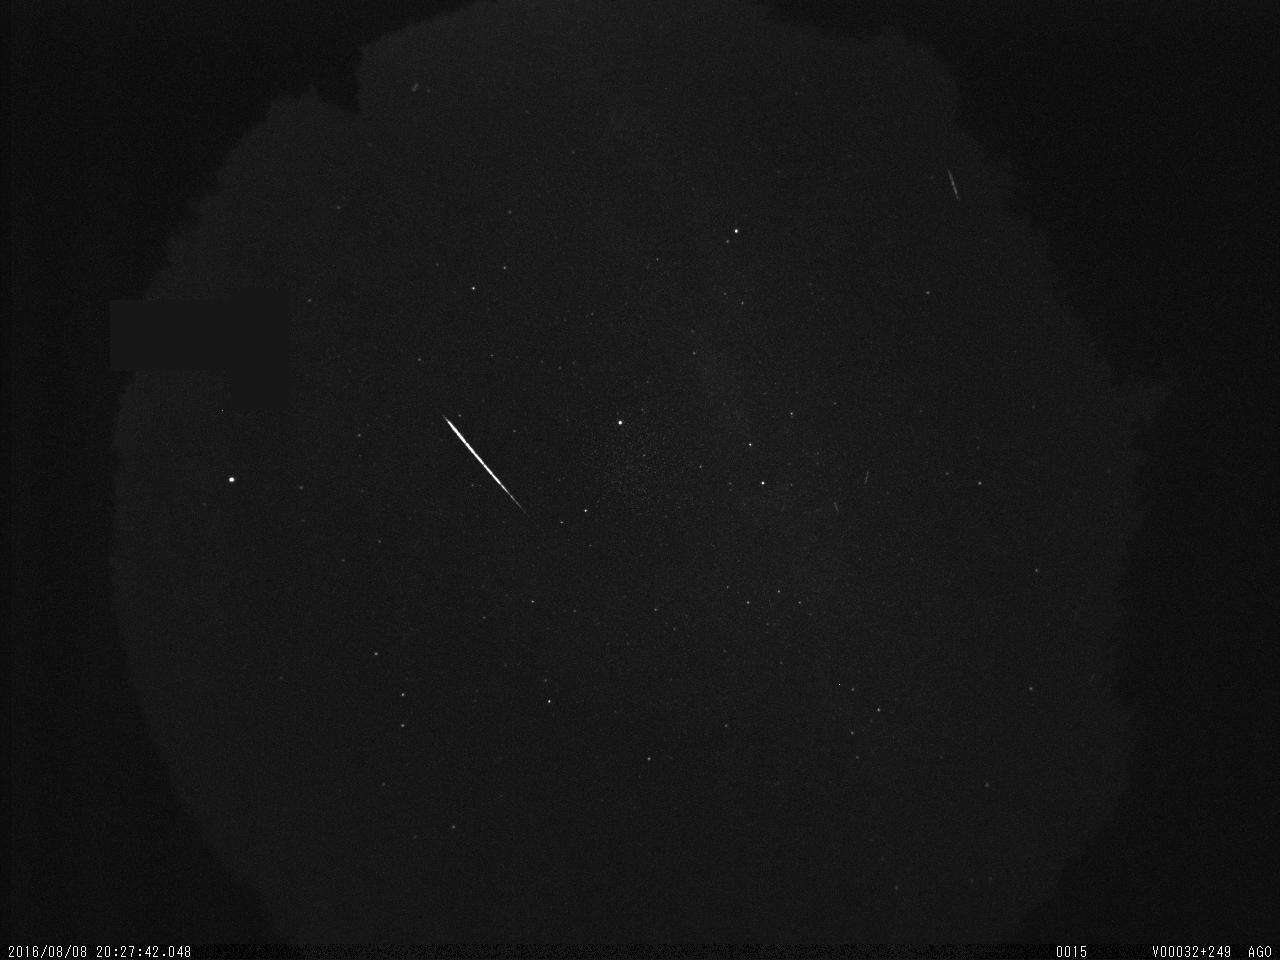meteor: (429, 401, 545, 527)
